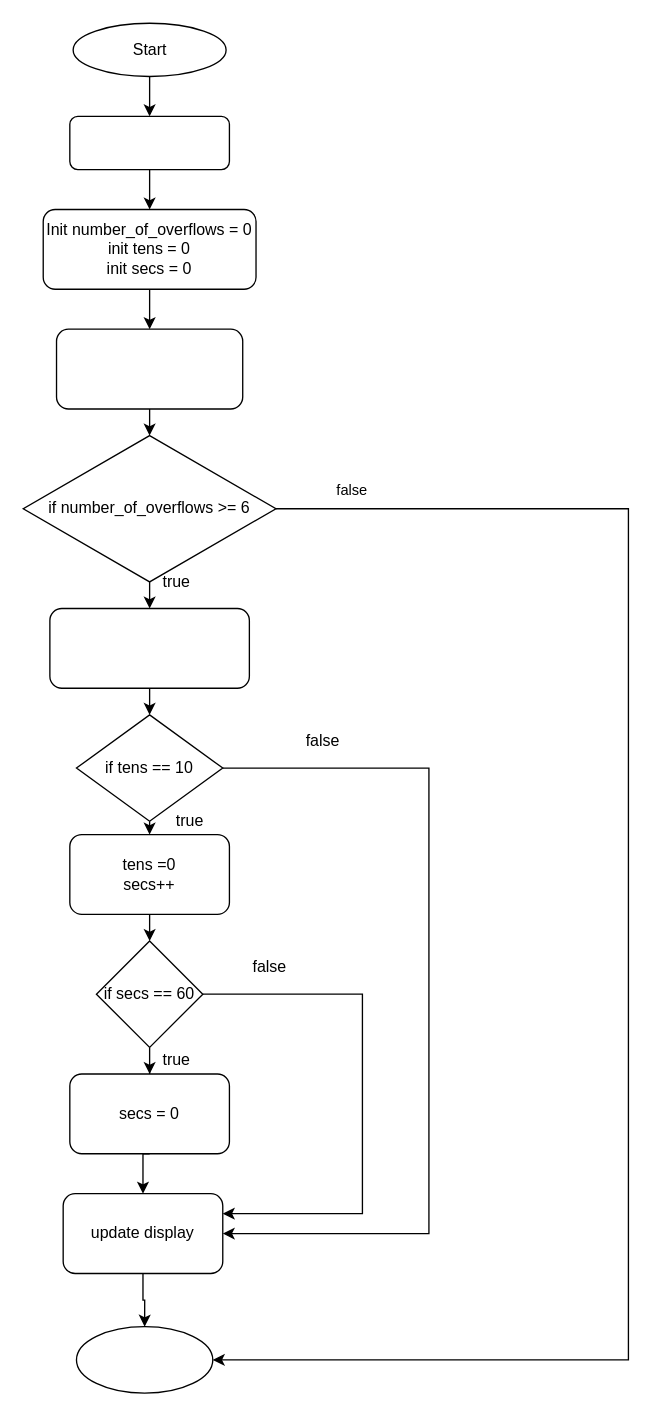
The diagram is 662 pixels wide and 1416 high, and some of its shapes have lost their labels. Here are the shapes that lost their labels. From the top down, the centre of each, then its label:
point (148, 142): TIMER2_OVF_vect
point (149, 368): number_of_overflows ++
point (149, 647): number_of_overflows = 0 tens++
point (144, 1359): End
